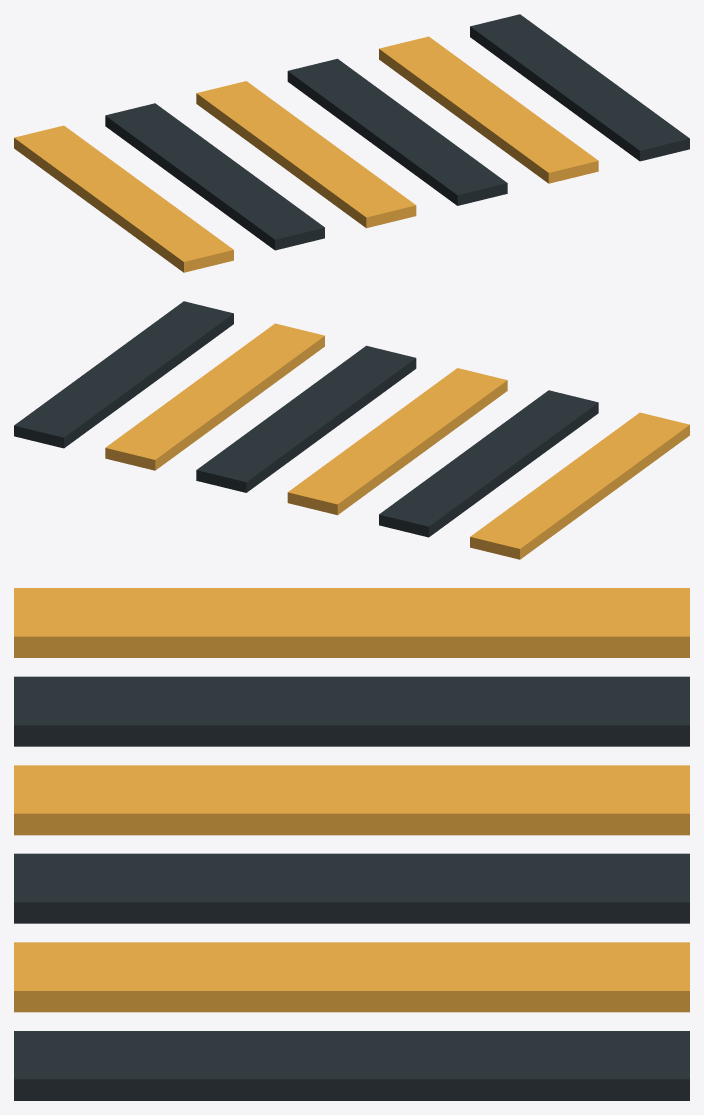
File: Road_SpeedTable_4m_WarningBars.glb
3 renders of one model, top to bottom at view 1: azimuth 30°, elevation 25°; view 2: azimuth 150°, elevation 25°; view 3: azimuth 270°, elevation 25°, orthographic. The views are drawn at different scales.
Visible parts, largest first — view 1: Road_SpeedTable_4m_WarningBars; view 2: Road_SpeedTable_4m_WarningBars; view 3: Road_SpeedTable_4m_WarningBars.
Boxes of the visible parts, x1=… form: Road_SpeedTable_4m_WarningBars: x1=14, y1=14, x2=689, y2=272; Road_SpeedTable_4m_WarningBars: x1=14, y1=301, x2=689, y2=559; Road_SpeedTable_4m_WarningBars: x1=14, y1=588, x2=689, y2=1100.
Size of the model in its own units: 3.44 by 0.07 by 2.
